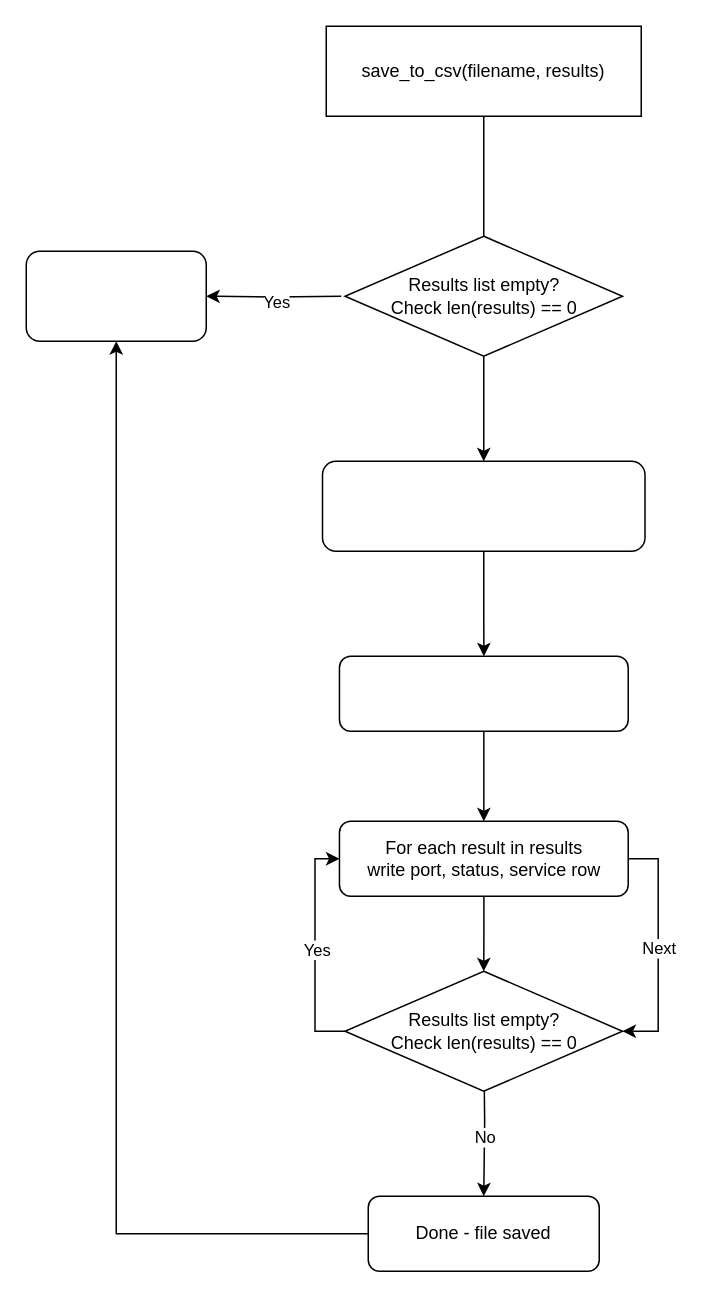
Some shapes in this 702 by 1298 pixel diagram are drawn without their labels. Each missing label, with the box of its shape:
Open file (filename, 'w') using csv.writer: (321, 460, 645, 551)
Print "No Results": (25, 250, 206, 341)
Write header row: (338, 655, 628, 731)
